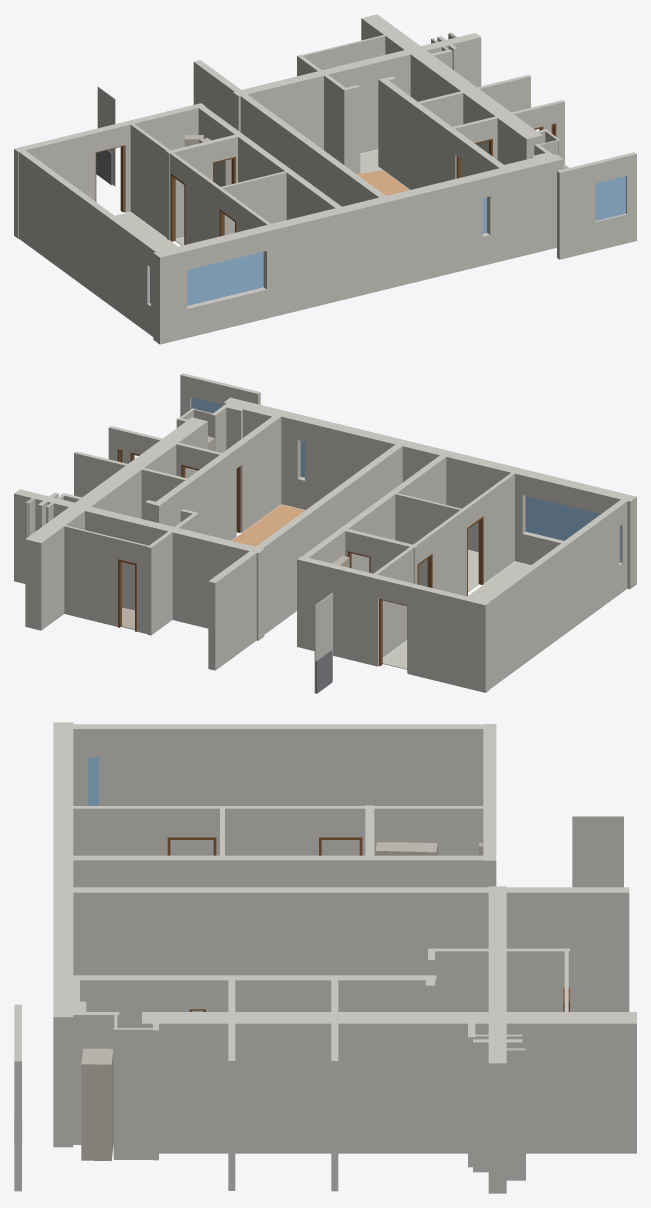
3 renders of one model, top to bottom at view 1: azimuth 30°, elevation 25°; view 2: azimuth 150°, elevation 25°; view 3: azimuth 270°, elevation 25°, orthographic. The views are drawn at different scales.
Parts seen in each view (by area): view 1: walls, window_6, window_8, floor_4_Undefined, floor_1_Living_Room, railings, furniture_2_closet, door_1; view 2: walls, window_6, floor_4_Undefined, floor_1_Living_Room, railings, door_2; view 3: walls, furniture_5_closet, furniture_3_closet.
Part boxes in pixels (box(x1,y1,x2,y2)): walls: box(14, 14, 636, 344); window_6: box(187, 252, 263, 305); window_8: box(595, 176, 625, 220); floor_4_Undefined: box(115, 212, 177, 250); floor_1_Living_Room: box(357, 170, 409, 195); railings: box(96, 150, 112, 185); furniture_2_closet: box(199, 138, 231, 186); door_1: box(171, 173, 185, 244); walls: box(14, 373, 636, 693); window_6: box(525, 496, 600, 540); floor_4_Undefined: box(382, 561, 530, 669); floor_1_Living_Room: box(232, 504, 304, 546); railings: box(315, 650, 332, 693); door_2: box(467, 516, 483, 596); walls: box(14, 722, 636, 1193); furniture_5_closet: box(81, 1048, 113, 1161); furniture_3_closet: box(375, 842, 437, 855).
Size of the model in its own units: 15.17 by 2.72 by 11.71.
